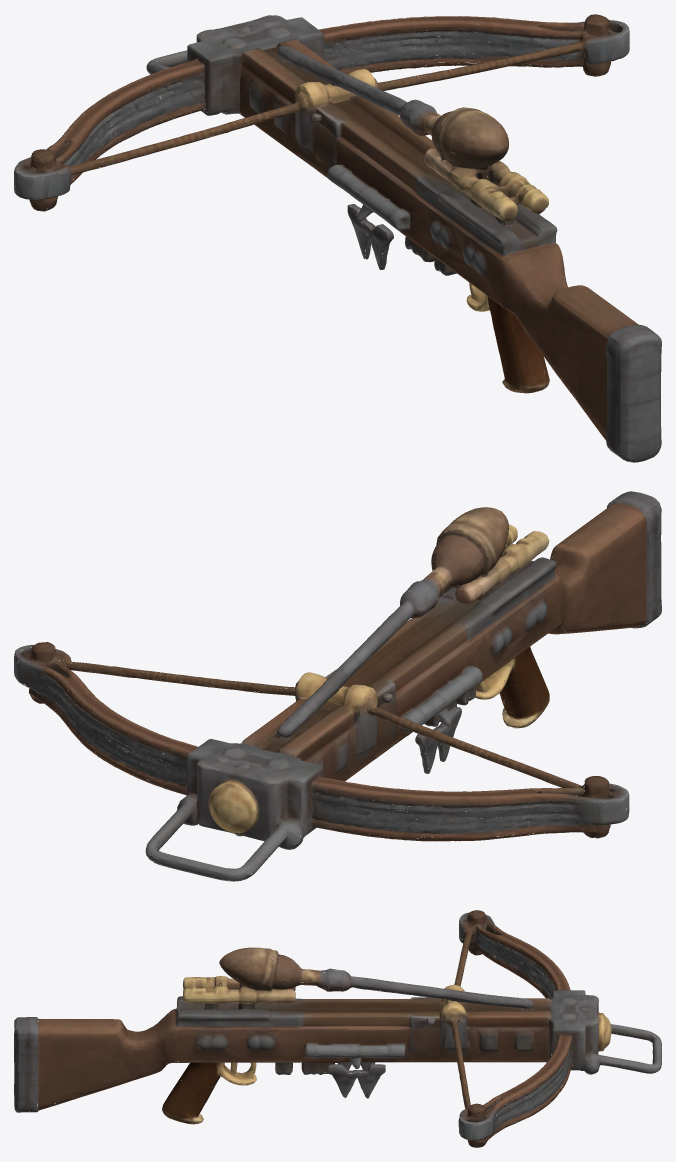
Rendered from crop_crossbow.glb.
3 views of the same model, one above another, from view 1: azimuth 30°, elevation 25°; view 2: azimuth 150°, elevation 25°; view 3: azimuth 270°, elevation 25° (orthographic). The views are drawn at different scales.
Parts seen in each view (by area): view 1: body, lever, limb_l, limb_r, string; view 2: body, lever, limb_r, limb_l, string; view 3: body, lever, limb_l, limb_r, string.
Boxes of the visible parts, left/top/right/bottom form: body: left=146, top=15, right=661, bottom=462; lever: left=242, top=41, right=492, bottom=213; limb_l: left=288, top=14, right=629, bottom=90; limb_r: left=14, top=44, right=320, bottom=211; string: left=42, top=23, right=619, bottom=211; body: left=145, top=491, right=661, bottom=881; lever: left=247, top=512, right=513, bottom=760; limb_r: left=291, top=693, right=629, bottom=841; limb_l: left=14, top=642, right=298, bottom=794; string: left=55, top=649, right=613, bottom=797; body: left=14, top=947, right=661, bottom=1124; lever: left=240, top=947, right=548, bottom=1028; limb_l: left=427, top=1012, right=573, bottom=1147; limb_r: left=454, top=910, right=576, bottom=998; string: left=439, top=916, right=488, bottom=1144.
Bounding box in the file's own units: 0.7354 × 0.2782 × 0.946.
Materials: 1 (1 with a texture image).
